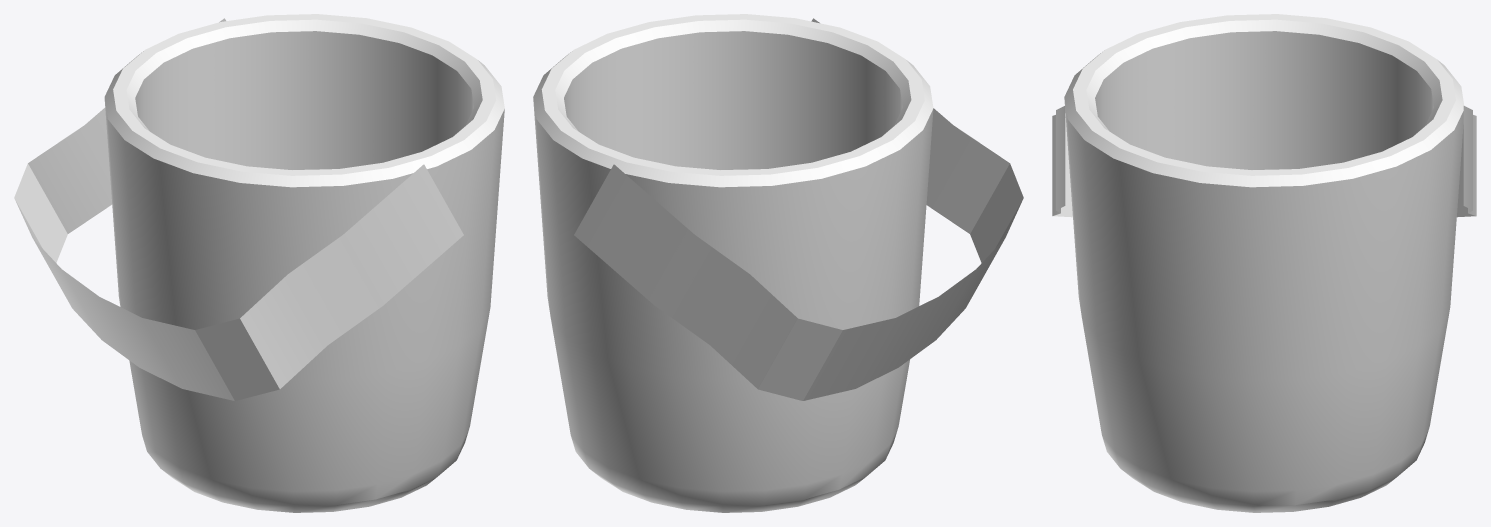
File: CookingPot.fbx
3 views of the same model, side by side, from view 1: azimuth 30°, elevation 25°; view 2: azimuth 150°, elevation 25°; view 3: azimuth 270°, elevation 25° (orthographic).
Parts seen in each view (by area): view 1: CookingPot; view 2: CookingPot; view 3: CookingPot.
Part boxes in pixels (left/top/right/bottom): CookingPot: left=14, top=14, right=504, bottom=512; CookingPot: left=533, top=14, right=1023, bottom=512; CookingPot: left=1052, top=14, right=1476, bottom=512.
Size of the model in its own units: 46.02 by 39.91 by 42.52.
Materials: 1 (1 with a texture image).
